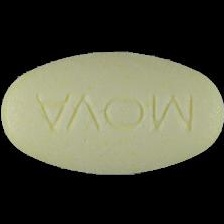67253-462: (0, 0, 224, 224)
